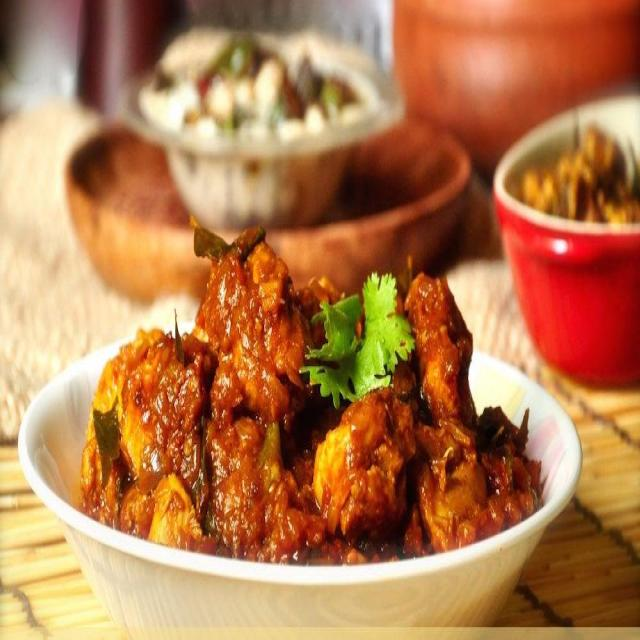chicken: (58, 217, 558, 556)
